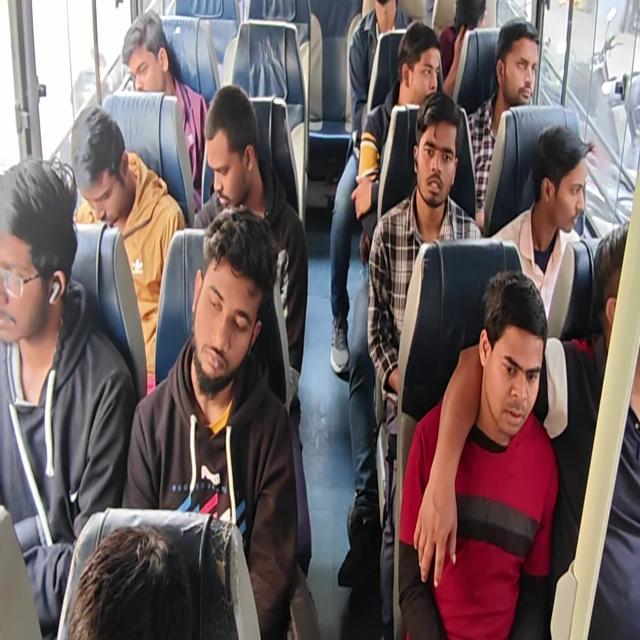person: (1, 1, 638, 638), (426, 220, 639, 638), (122, 205, 299, 638), (0, 156, 136, 638), (366, 91, 483, 637), (334, 13, 445, 588), (397, 269, 559, 638), (192, 83, 312, 578), (553, 221, 639, 638), (70, 105, 186, 396), (329, 0, 413, 378), (352, 21, 444, 264), (488, 123, 594, 325), (121, 9, 210, 211), (466, 18, 539, 230), (66, 523, 195, 639), (348, 1, 412, 147), (438, 0, 487, 99)
